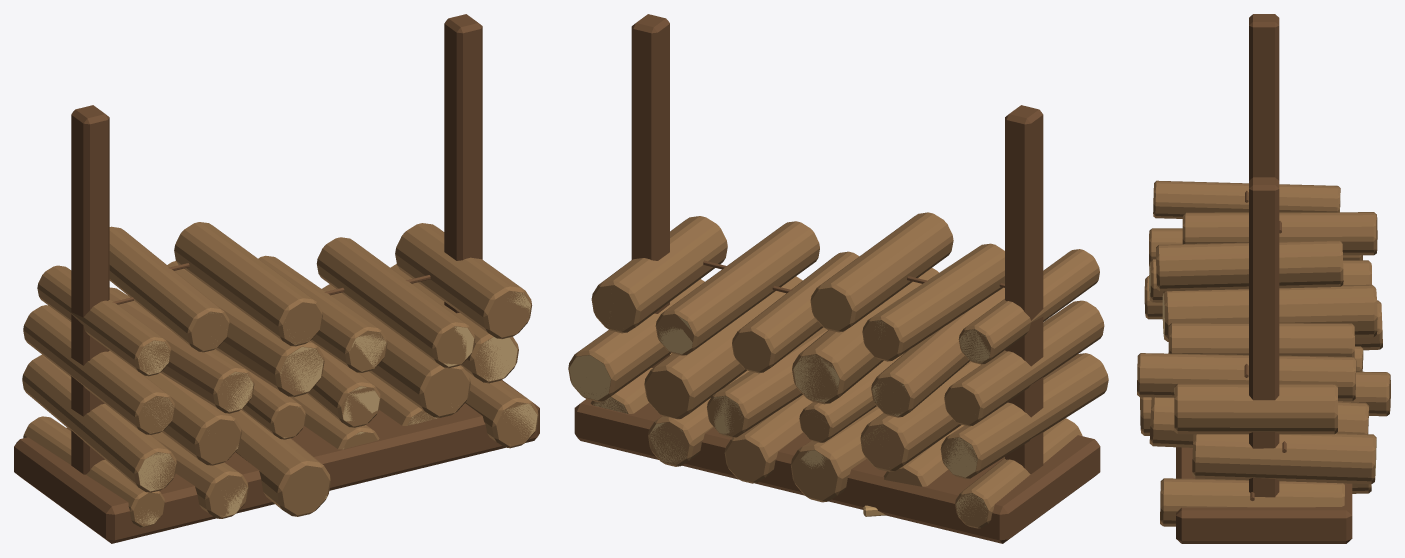
Rendered from runtime.glb.
3 views of the same model, side by side, from view 1: azimuth 30°, elevation 25°; view 2: azimuth 150°, elevation 25°; view 3: azimuth 270°, elevation 25° (orthographic). The views are drawn at different scales.
Parts seen in each view (by area): view 1: falkenwacht-woodpile-v09_nocol; view 2: falkenwacht-woodpile-v09_nocol; view 3: falkenwacht-woodpile-v09_nocol.
Part boxes in pixels (x1=…): falkenwacht-woodpile-v09_nocol: x1=14, y1=14, x2=539, y2=543; falkenwacht-woodpile-v09_nocol: x1=568, y1=14, x2=1108, y2=543; falkenwacht-woodpile-v09_nocol: x1=1137, y1=14, x2=1390, y2=543.
Bounding box in the file's own units: 2.66 × 2.3 × 1.5.
